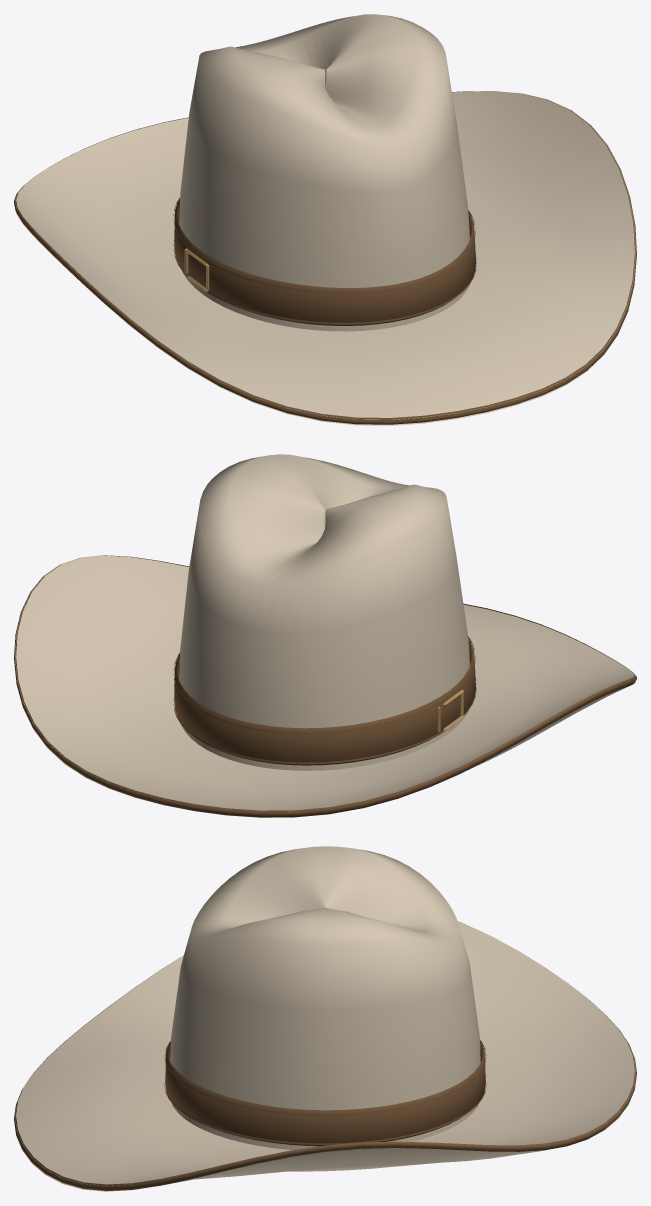
File: tall-cattleman.glb
3 renders of one model, top to bottom at view 1: azimuth 30°, elevation 25°; view 2: azimuth 150°, elevation 25°; view 3: azimuth 270°, elevation 25°, orthographic. The views are drawn at different scales.
Parts seen in each view (by area): view 1: Felt upper brim, Felt crown, Fitted hatband, Bound brim edge, Felt under brim, Sewn band border.001, Sewn band border; view 2: Felt crown, Felt upper brim, Fitted hatband, Bound brim edge, Felt under brim, Sewn band border.001, Sewn band border; view 3: Felt crown, Felt upper brim, Fitted hatband, Bound brim edge, Felt under brim, Sewn band border.001, Sewn band border.
Boxes of the visible parts, <box> form: Felt upper brim: <box>15,91,635,419</box>; Felt crown: <box>179,14,469,331</box>; Fitted hatband: <box>174,199,475,325</box>; Bound brim edge: <box>14,91,636,424</box>; Felt under brim: <box>16,213,617,425</box>; Sewn band border.001: <box>173,197,475,294</box>; Sewn band border: <box>173,240,476,324</box>; Felt crown: <box>179,454,469,770</box>; Felt upper brim: <box>15,555,635,811</box>; Fitted hatband: <box>174,638,475,765</box>; Bound brim edge: <box>14,555,636,817</box>; Felt under brim: <box>23,681,635,817</box>; Sewn band border.001: <box>173,636,475,734</box>; Sewn band border: <box>173,679,476,764</box>; Felt crown: <box>170,846,480,1149</box>; Felt upper brim: <box>15,921,635,1185</box>; Fitted hatband: <box>165,1041,485,1146</box>; Bound brim edge: <box>14,923,636,1190</box>; Felt under brim: <box>22,1104,628,1191</box>; Sewn band border.001: <box>164,1040,486,1116</box>; Sewn band border: <box>164,1081,486,1144</box>.
Bounding box in the file's own units: 0.3692 × 0.1662 × 0.3912.
